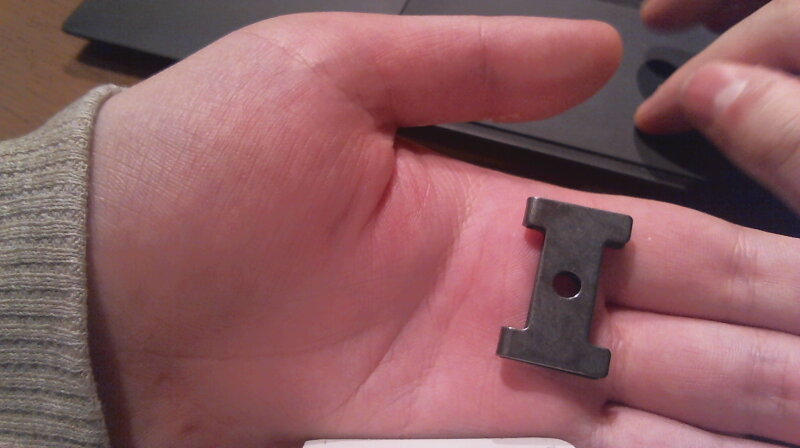O002: (493, 191, 633, 381)
